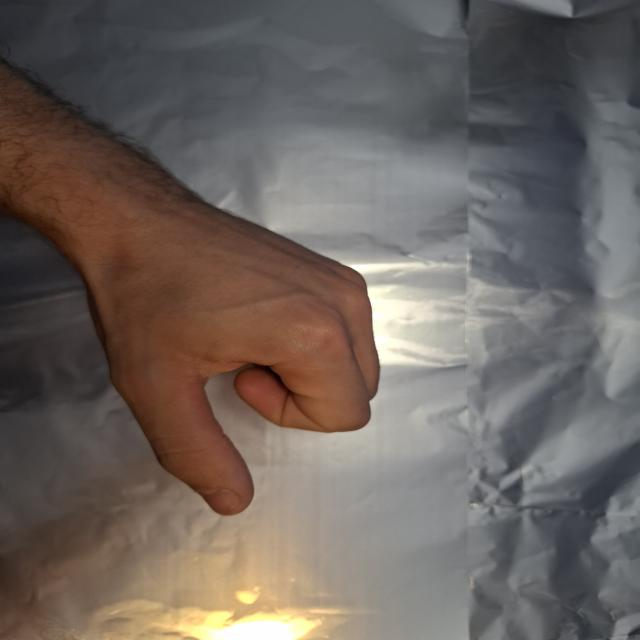glove_off: (42, 170, 383, 519)
